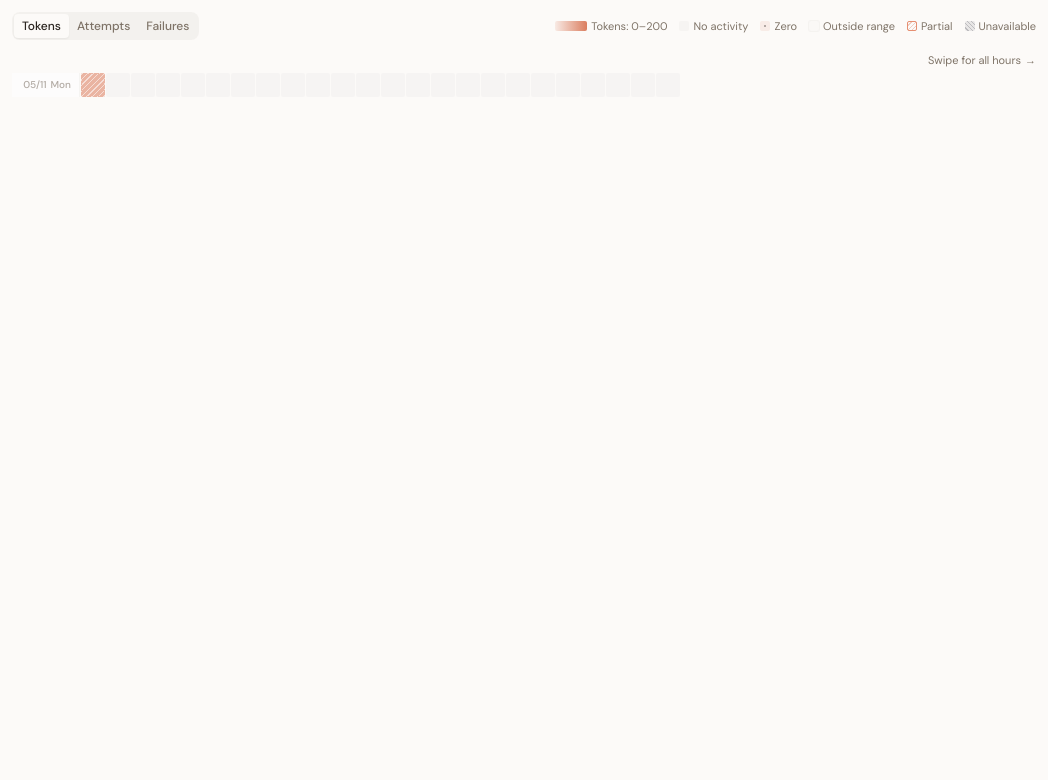
Scenario: Heatmap › shows complete details on focus and click, closes with Escape, and keeps the tooltip in the viewport
Focus the button named "05/11 Mon 00:00" at (93, 84), box [81,72,105,96]
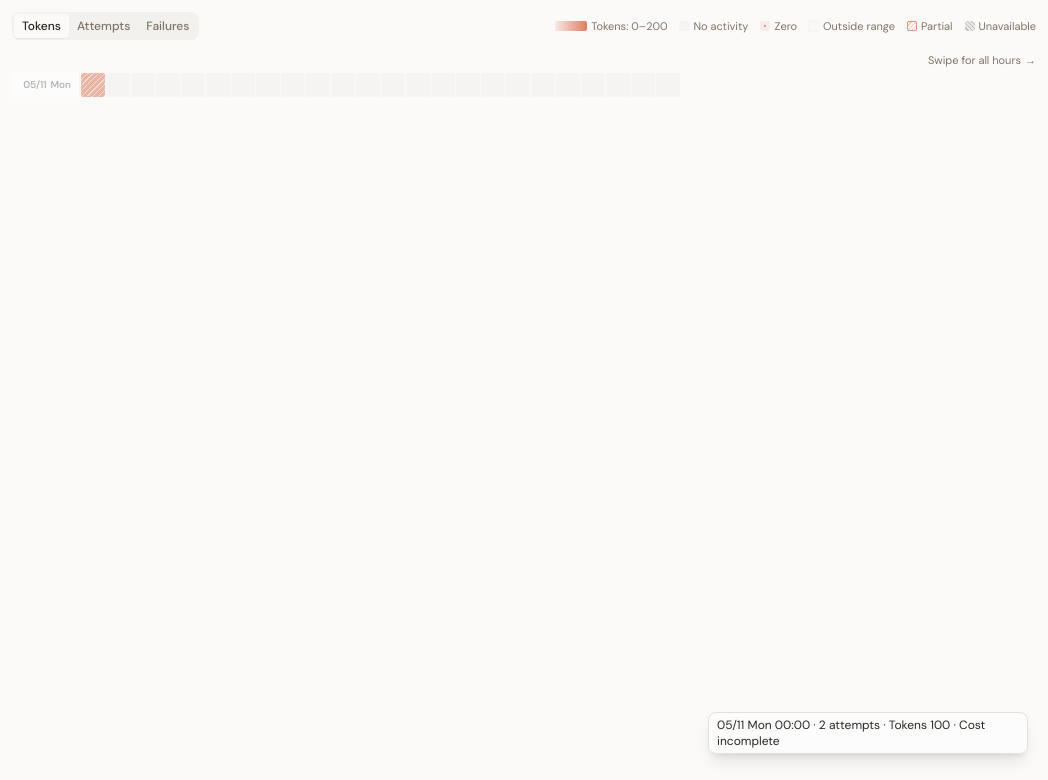
expect the tooltip shows "2 attempts": met, box [717,717,985,749]
expect the tooltip shows "Tokens 100": met, box [717,717,985,749]
expect the tooltip shows "Cost incomplete": met, box [717,717,985,749]
Press Escape in the button named "05/11 Mon 00:00", box [81,72,105,96]
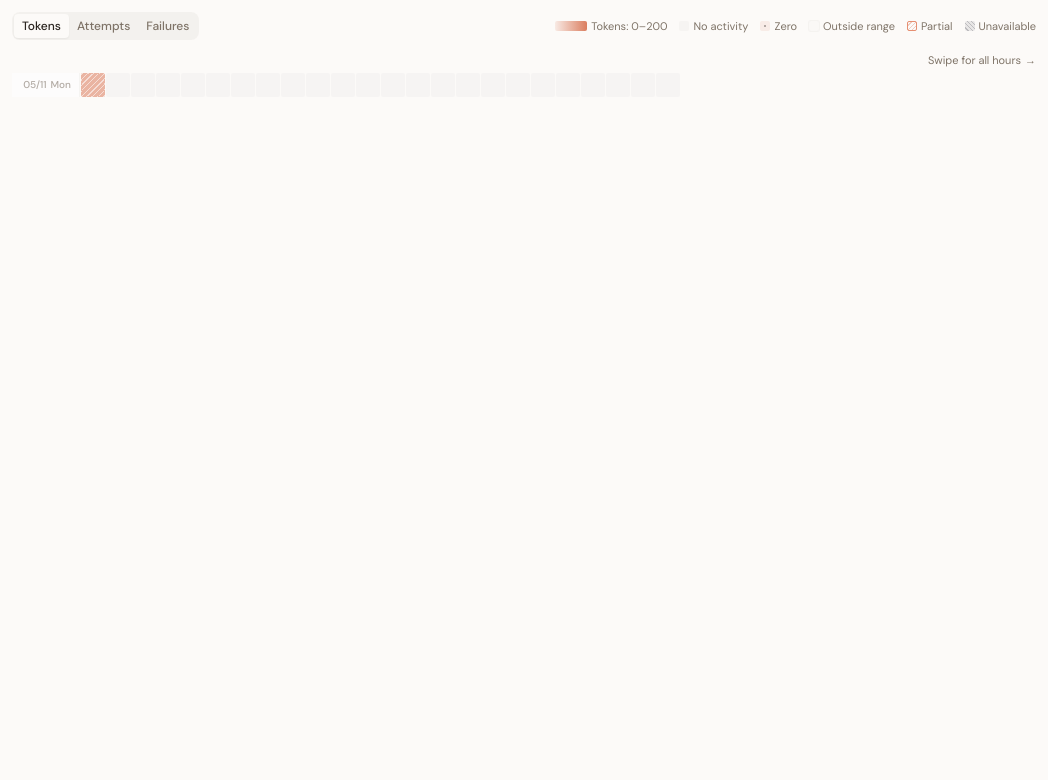
expect the tooltip "05/11 Mon 00:00 · 2 attempts · Tokens 100 · Cost incomplete" is gone: met
Click the button named "05/11 Mon 00:00".
click(93, 84)  # box [81,72,105,96]
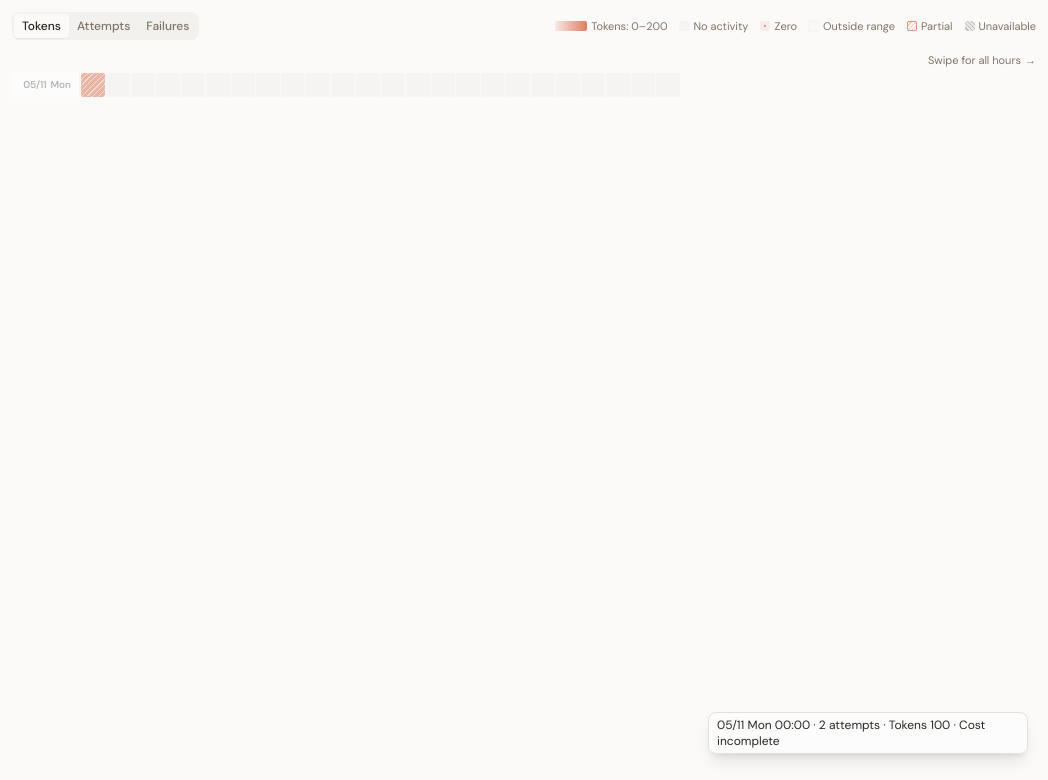
expect the tooltip "05/11 Mon 00:00 · 2 attempts · Tokens 100 · Cost incomplete" is shown: met, box [708,712,1028,754]
